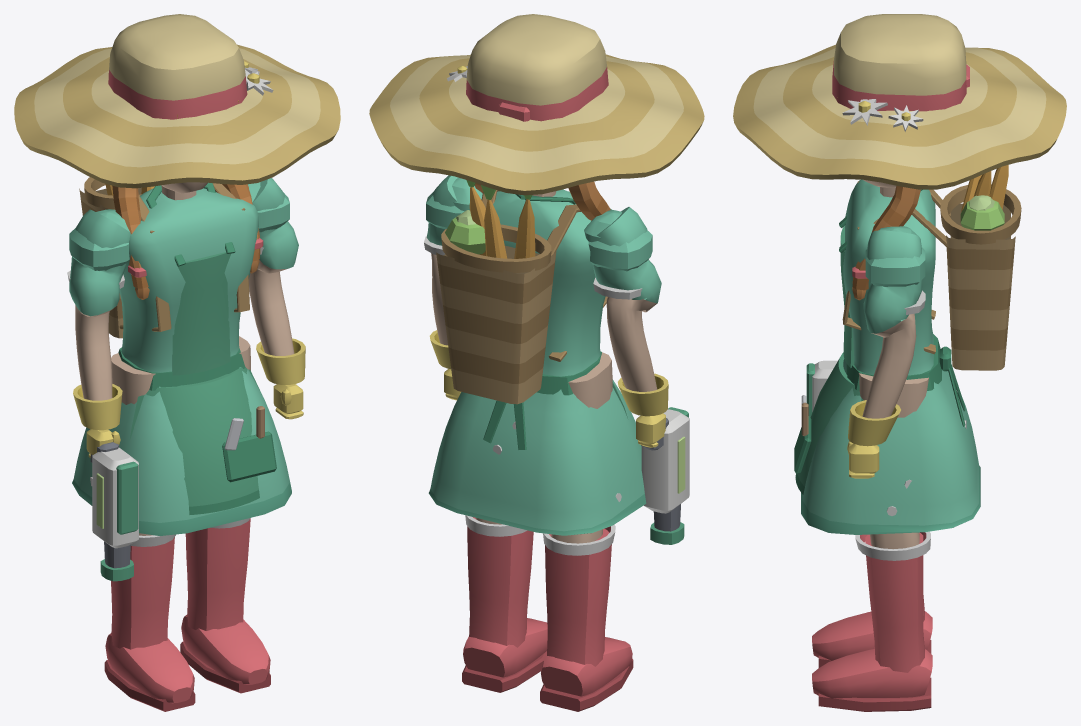
The model's file is jo_jardiniere.glb.
The picture shows the model from 3 angles, left to right: view 1: azimuth 30°, elevation 25°; view 2: azimuth 150°, elevation 25°; view 3: azimuth 270°, elevation 25°; orthographic projection. The views are drawn at different scales.
Parts seen in each view (by area): view 1: torso, coiffe, jambe_l, jambe_r, arm_r, arm_l, gun, dos, hair, leg_r, head; view 2: coiffe, torso, dos, jambe_r, jambe_l, arm_r, gun, arm_l, leg_r, hair; view 3: coiffe, torso, dos, jambe_l, arm_l, jambe_r, hair, leg_l, gun, shin_l.
Part boxes in pixels (bbox=[...]): torso: bbox=[72, 182, 291, 535]; coiffe: bbox=[14, 14, 340, 188]; jambe_l: bbox=[180, 518, 270, 693]; jambe_r: bbox=[104, 534, 195, 711]; arm_r: bbox=[67, 209, 130, 457]; arm_l: bbox=[248, 178, 305, 419]; gun: bbox=[90, 442, 138, 581]; dos: bbox=[79, 177, 249, 338]; hair: bbox=[112, 100, 263, 299]; leg_r: bbox=[111, 353, 155, 404]; head: bbox=[161, 182, 207, 200]; coiffe: bbox=[369, 14, 704, 195]; torso: bbox=[428, 189, 646, 535]; dos: bbox=[436, 180, 607, 404]; jambe_r: bbox=[540, 524, 633, 711]; jambe_l: bbox=[462, 515, 547, 692]; arm_r: bbox=[584, 207, 668, 447]; gun: bbox=[641, 407, 689, 544]; arm_l: bbox=[424, 175, 482, 400]; leg_r: bbox=[568, 352, 612, 408]; hair: bbox=[474, 181, 610, 220]; coiffe: bbox=[733, 14, 1066, 189]; torso: bbox=[794, 179, 980, 534]; dos: bbox=[842, 165, 1021, 370]; jambe_l: bbox=[812, 531, 932, 711]; arm_l: bbox=[847, 226, 925, 478]; jambe_r: bbox=[812, 595, 932, 667]; hair: bbox=[836, 97, 920, 300]; leg_l: bbox=[858, 373, 928, 417]; gun: bbox=[806, 360, 837, 417]; shin_l: bbox=[870, 532, 919, 549].
Size of the model in its own units: 0.5747 by 1.24 by 0.5747.
